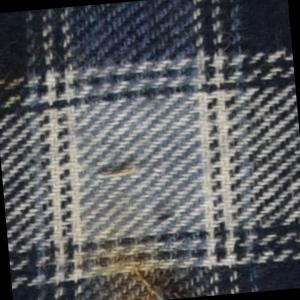Damage: (98, 251, 205, 300)
Oil Stain: (39, 143, 208, 300)
Stain: (1, 66, 26, 113)
